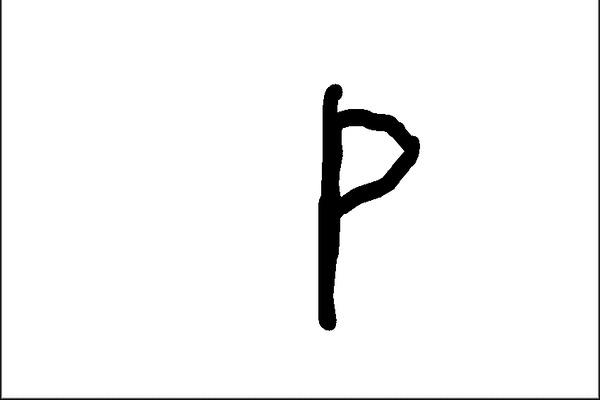P: (300, 76, 424, 338)
